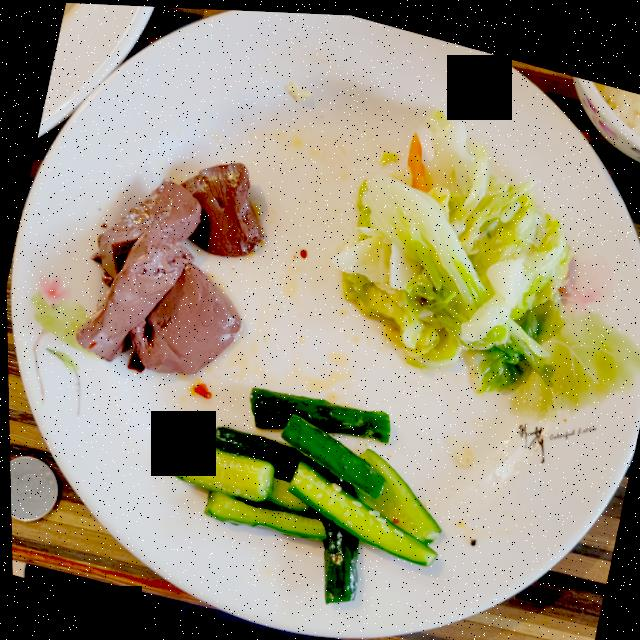cabbage: (330, 104, 571, 389)
coin: (8, 455, 56, 520)
cucumber: (168, 384, 438, 599)
pig blood curd: (73, 159, 262, 372)
